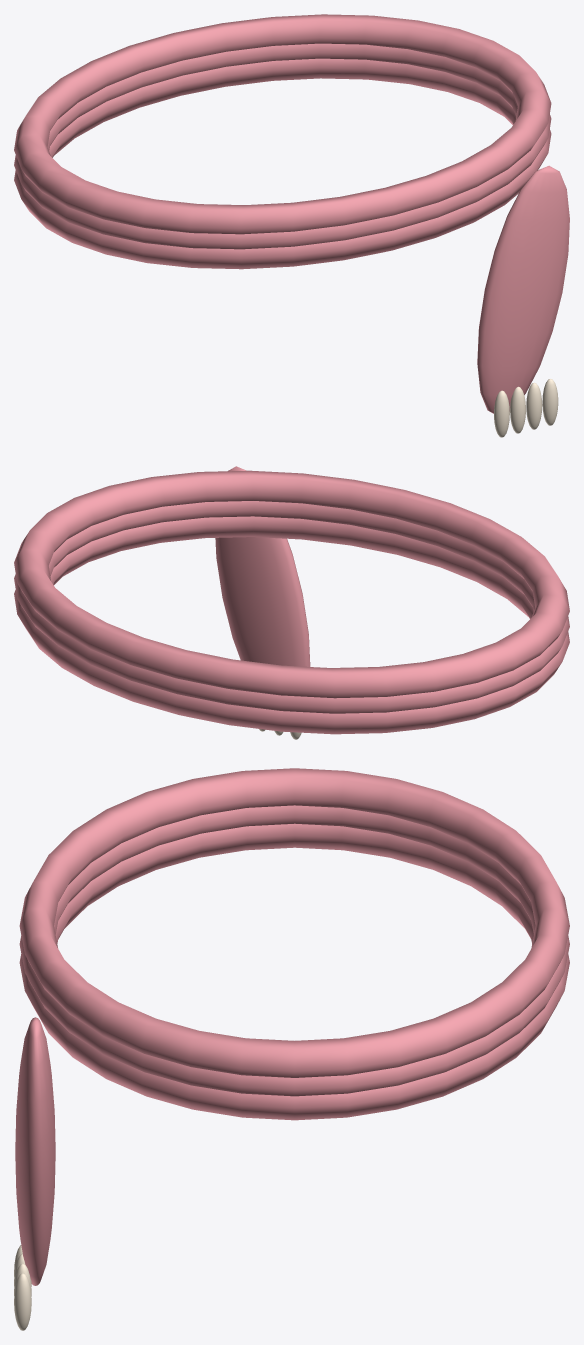
File: scarf_hearts.glb
The picture shows the model from 3 angles, top to bottom: view 1: azimuth 30°, elevation 25°; view 2: azimuth 150°, elevation 25°; view 3: azimuth 270°, elevation 25°; orthographic projection. The views are drawn at different scales.
Visible parts, largest first — view 1: Bufanda suave; view 2: Bufanda suave; view 3: Bufanda suave.
Part boxes in pixels (x1,y1,x2,y2): Bufanda suave: [14, 14, 569, 437]; Bufanda suave: [14, 466, 569, 739]; Bufanda suave: [14, 768, 569, 1330].
Size of the model in its own units: 0.544 by 0.2867 by 0.4396.
